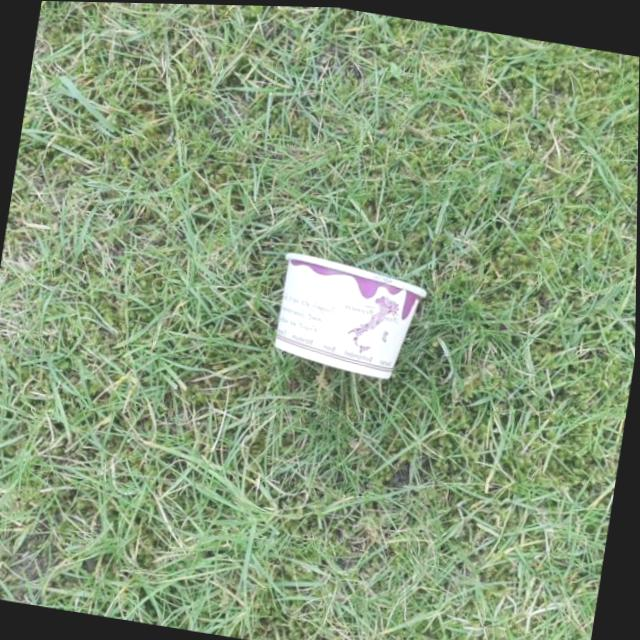Paper: (269, 246, 432, 382)
